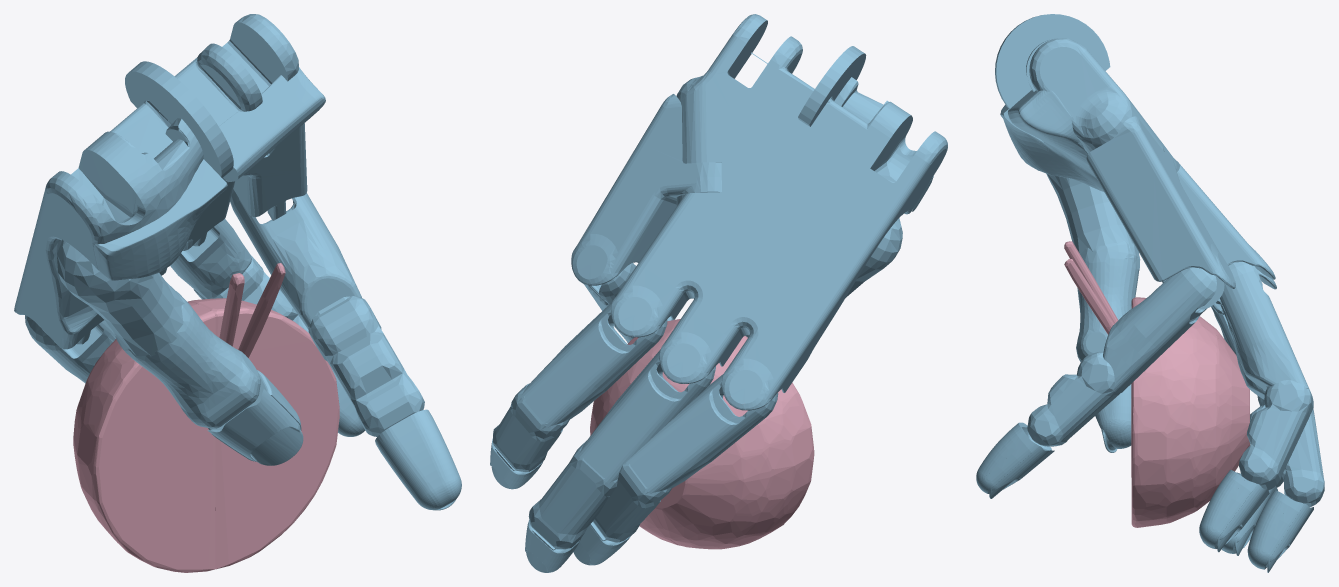
3 renders of one model, left to right at view 1: azimuth 30°, elevation 25°; view 2: azimuth 150°, elevation 25°; view 3: azimuth 270°, elevation 25°, orthographic. The views are drawn at different scales.
Visible parts, largest first — view 1: hand_isaac_q, world; view 2: hand_isaac_q, world; view 3: hand_isaac_q, world.
Part boxes in pixels (x1,y1,x2,y2): hand_isaac_q: (14, 14, 461, 510); world: (73, 263, 339, 572); hand_isaac_q: (490, 14, 947, 572); world: (590, 319, 814, 549); hand_isaac_q: (976, 14, 1324, 572); world: (1064, 241, 1249, 527).
Size of the model in its own units: 0.1359 by 0.1814 by 0.1184.
